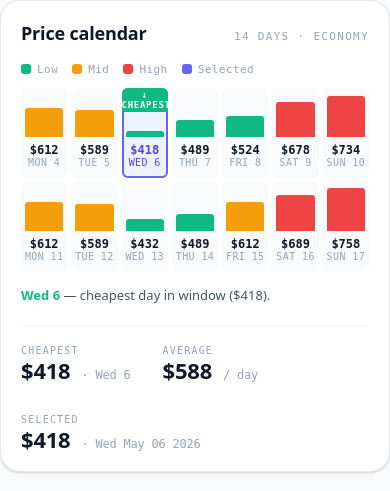
Test: PriceCalendar › selecting a different day updates aria-pressed + savings hint
The width and height of the screenshot is (390, 491).
Note: Click the highest-priced day (index 13, $758)
Click the list item "$758 Sun 17" at coordinates (346, 227), box x1=323 y1=182 x2=369 y2=272
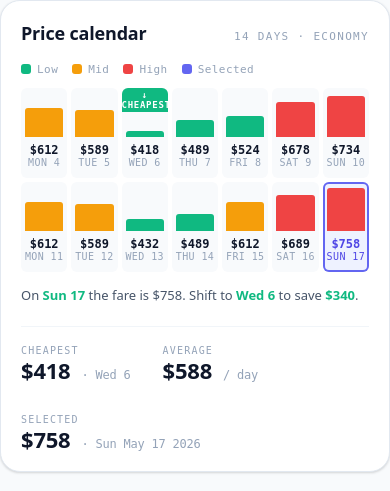
Check: the text "On Sun 17 the fare is $758. Shift to Wed 6 to save $340." is shown, box x1=21 y1=286 x2=369 y2=304
